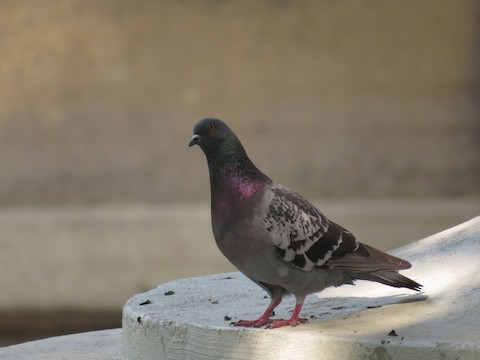pigeon: (186, 114, 424, 330)
